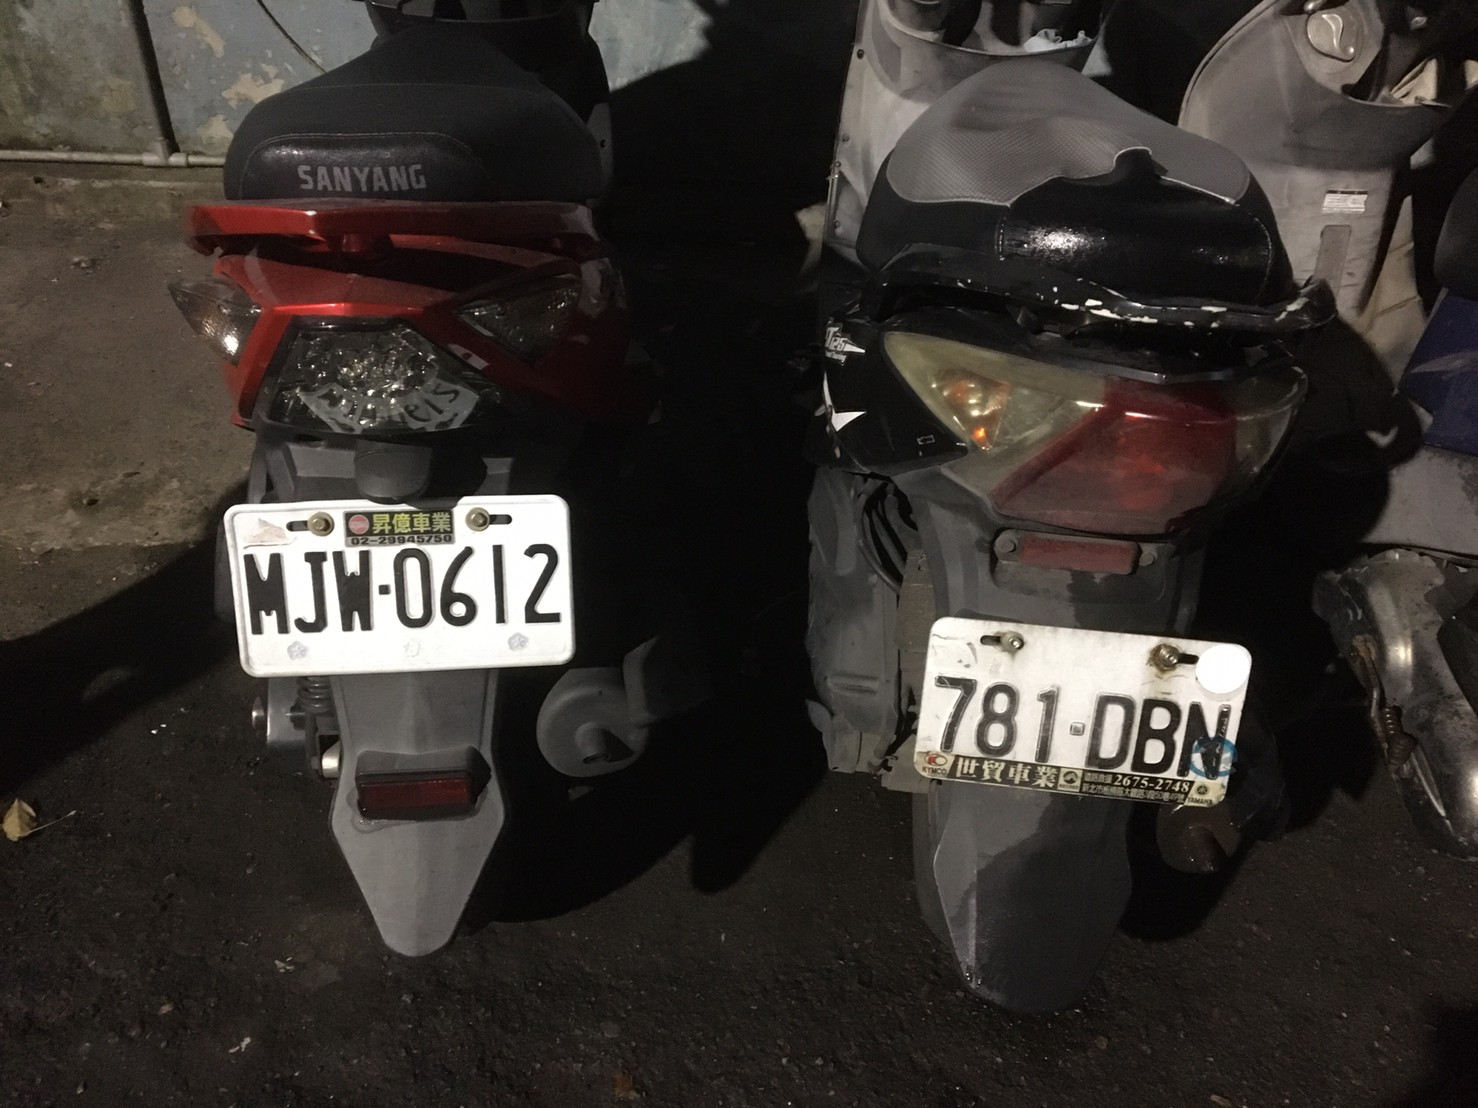LP: (916, 605, 1242, 800), (221, 502, 584, 672)
